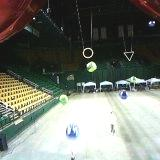Green_Balloon: (86, 62, 96, 72), (59, 94, 68, 105), (130, 76, 136, 82)
Purple_Balloon: (66, 125, 80, 138), (119, 90, 128, 100), (148, 19, 156, 26)
Yellow_Circle_GShape: (82, 47, 94, 59)
Yellow_Triangle_Gshape: (124, 51, 134, 62)
